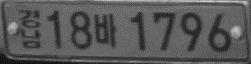1: (45, 8, 64, 50), (129, 11, 147, 52)
6: (207, 13, 232, 51)
7: (153, 11, 176, 51)
8: (69, 11, 91, 48)
9: (179, 12, 203, 52)
경남_V: (18, 7, 42, 49)
바: (93, 12, 118, 49)
